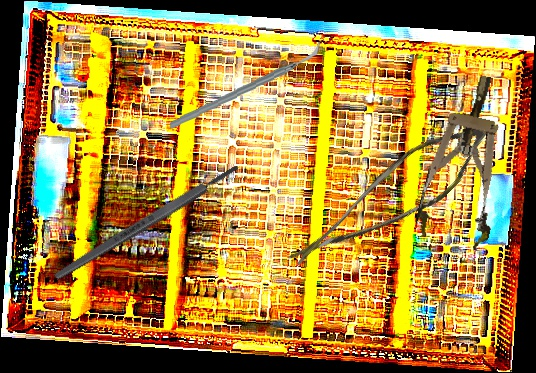Chopper: (165, 39, 327, 131)
Micro Scissor: (287, 93, 497, 308)
Scalpel Handle: (50, 160, 243, 284)
Speculum: (412, 68, 524, 253)
